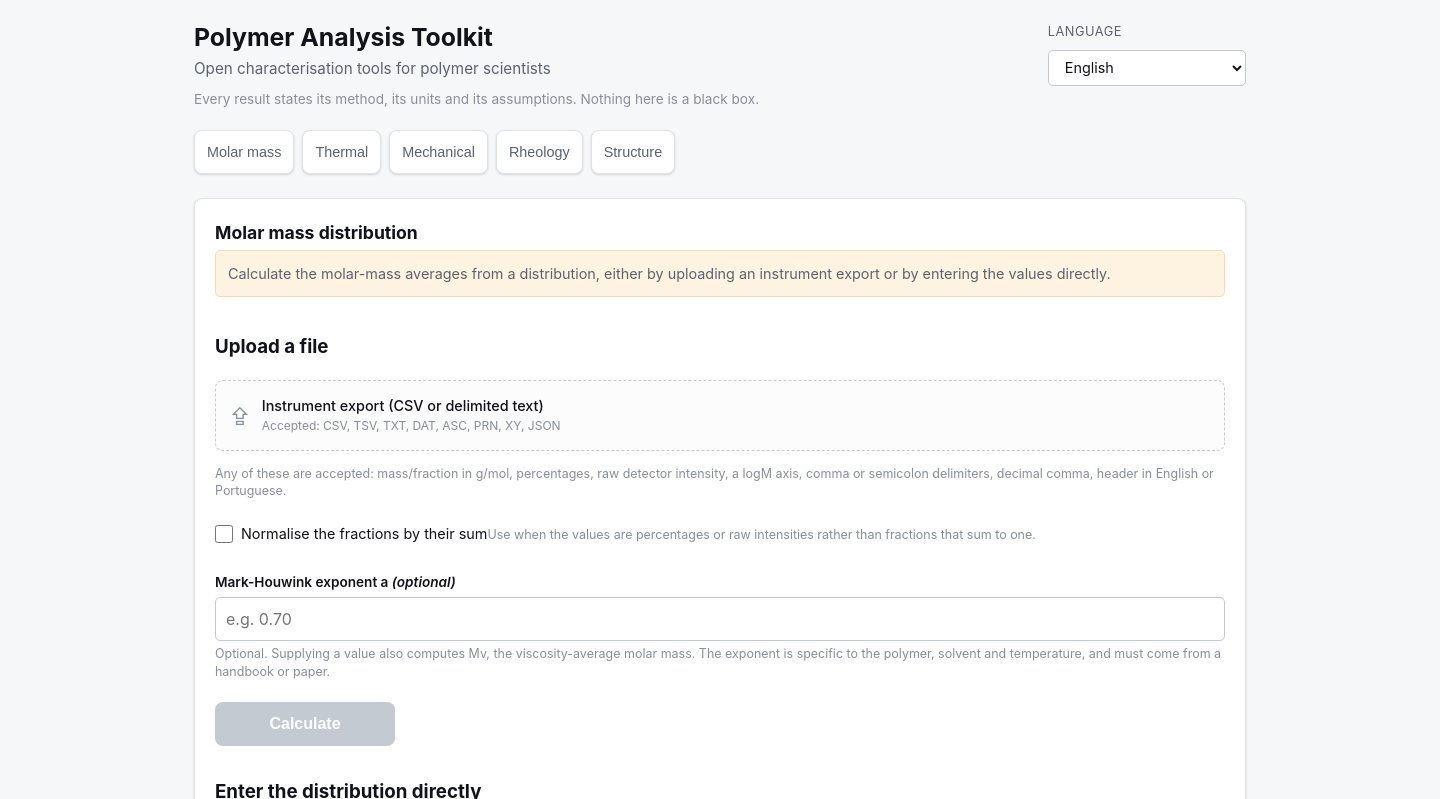
it: reference enthalpy from the internal database › choosing an entry fills the number and shows the citation
The width and height of the screenshot is (1440, 799).
Step 1. Click the button "Thermal" → click(342, 152), box x1=302 y1=130 x2=381 y2=174
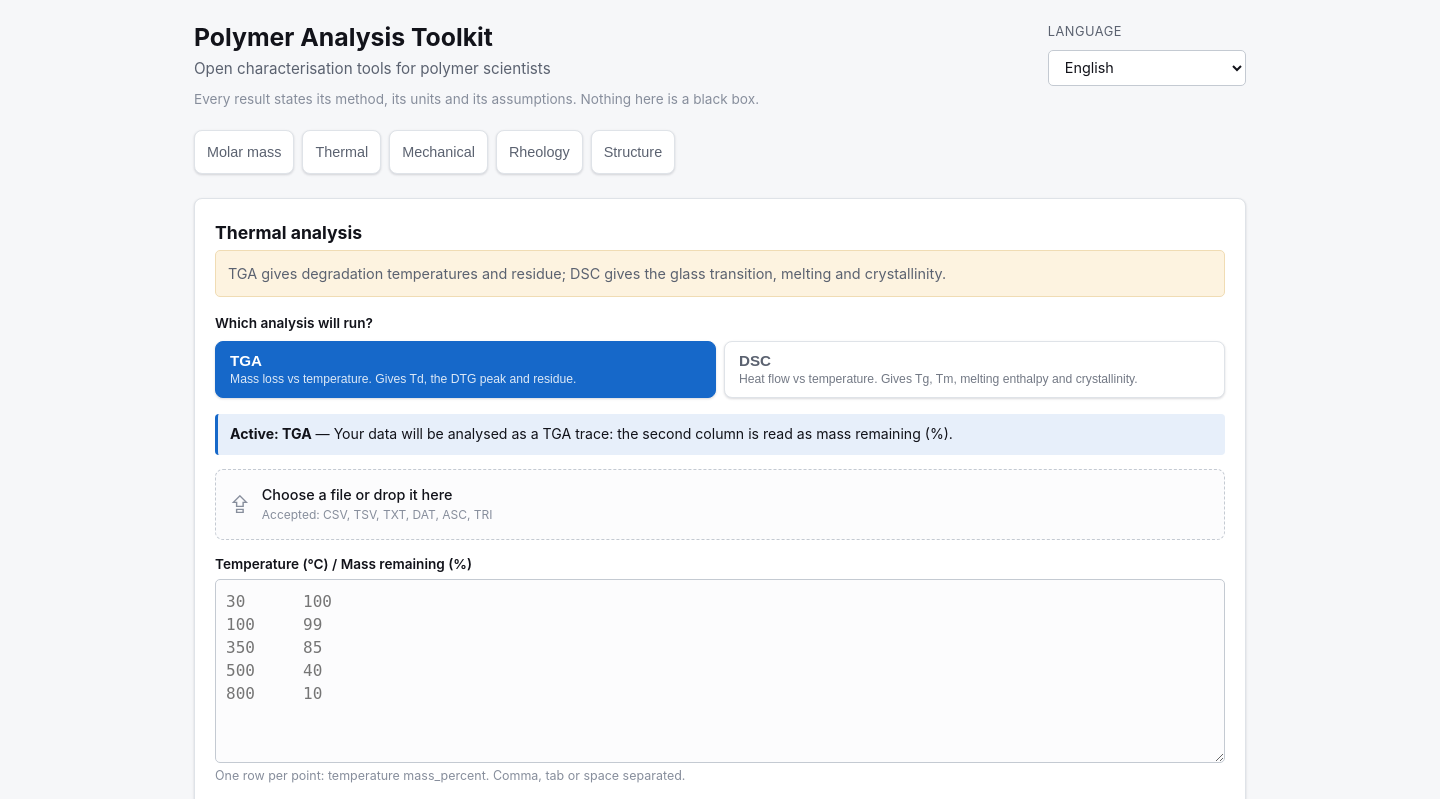
Step 2. Click the tab "DSC" → click(974, 369), box x1=724 y1=340 x2=1225 y2=398
(page scrolled)
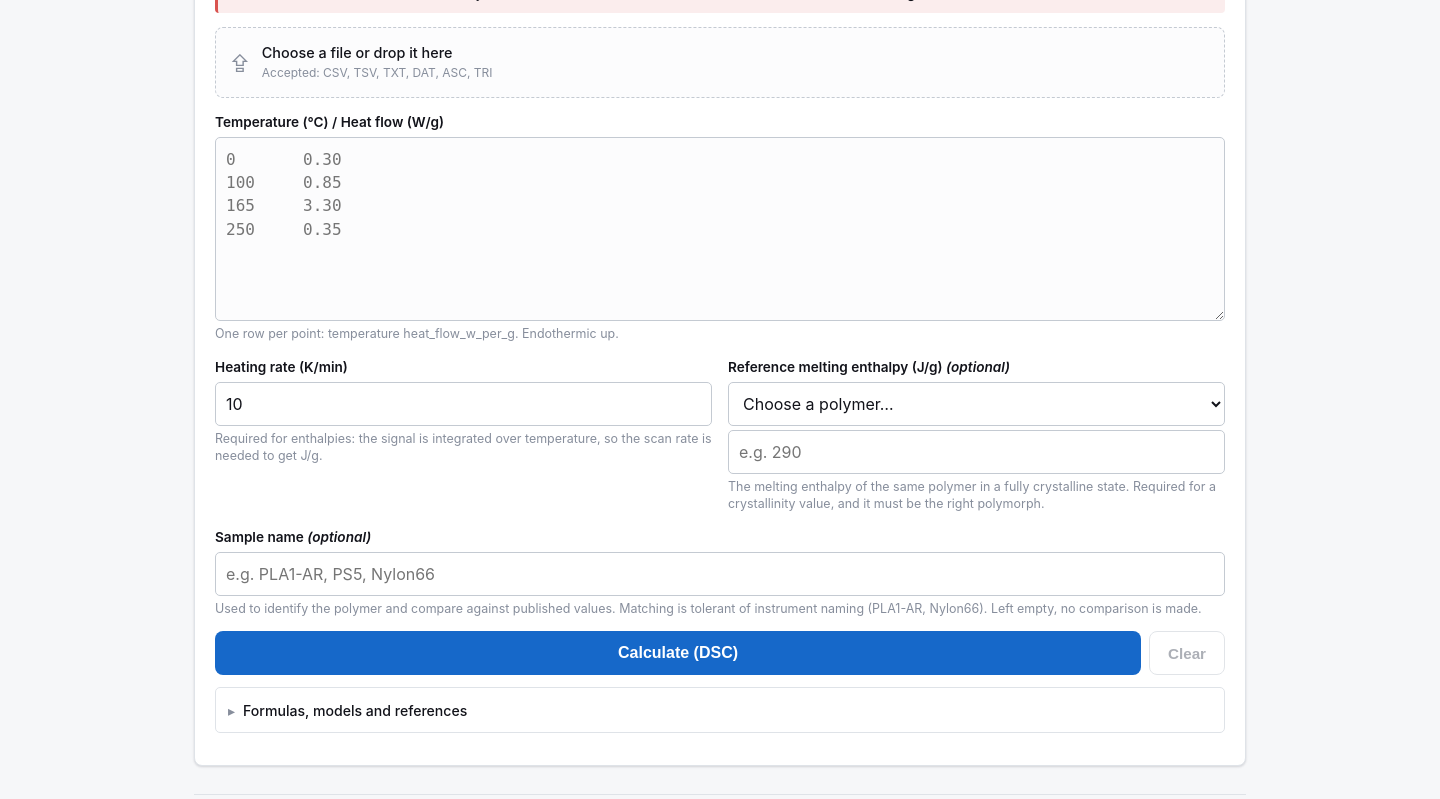
Result: the label that starts with "Reference melting enthalpy (J/g)" is shown at x1=728 y1=357 x2=1225 y2=513
Result: the dropdown is shown
Step 3. Select "Polietileno (PE, HDPE/LDPE) — 293 J/g" in the dropdown → (976, 404), box x1=728 y1=382 x2=1225 y2=426
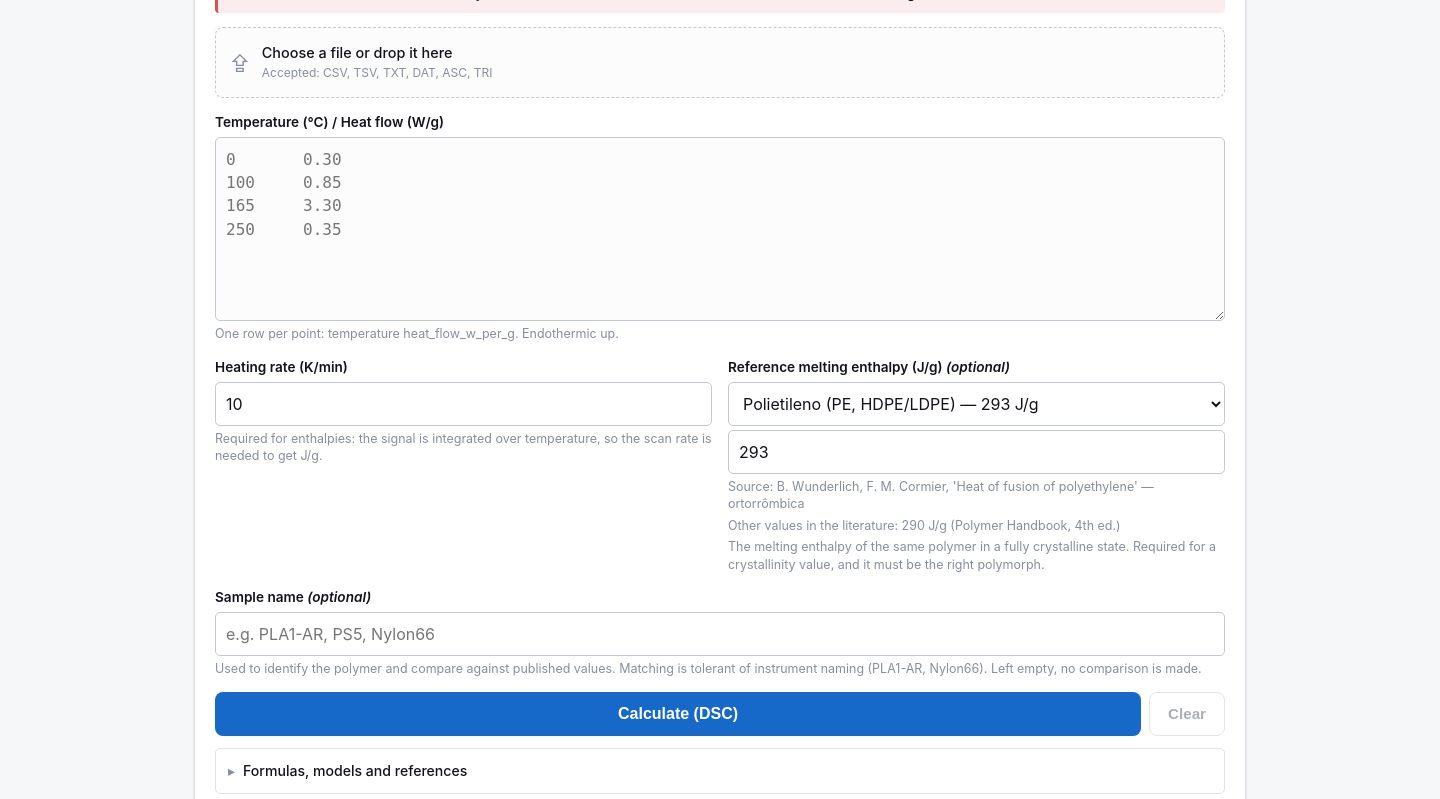
Result: the 2nd number field holds "293" at x1=728 y1=430 x2=1225 y2=474
Result: the text "Wunderlich" is shown at x1=777 y1=479 x2=1138 y2=494
Result: the text "ortorrômbica" is shown at x1=728 y1=479 x2=1154 y2=511
